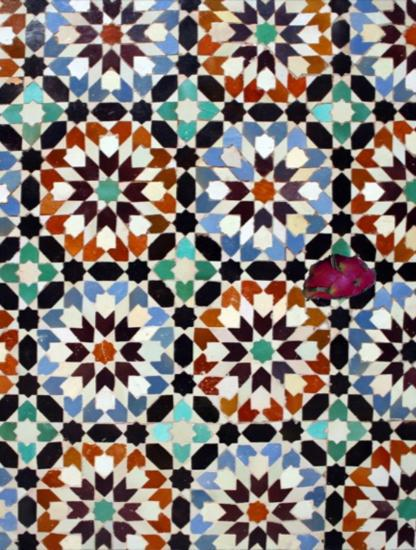Pitahaya: (299, 240, 379, 320)
